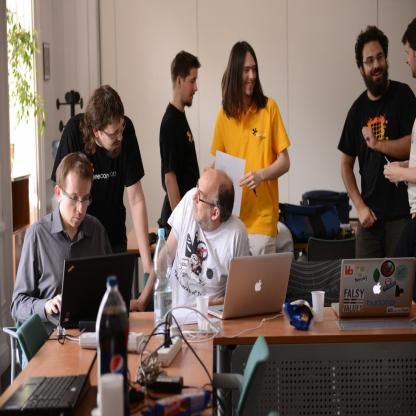board: (47, 248, 130, 330), (0, 350, 98, 416), (208, 251, 291, 318), (332, 257, 414, 318), (98, 276, 126, 416), (154, 226, 173, 328), (312, 292, 326, 322), (196, 296, 208, 330)
